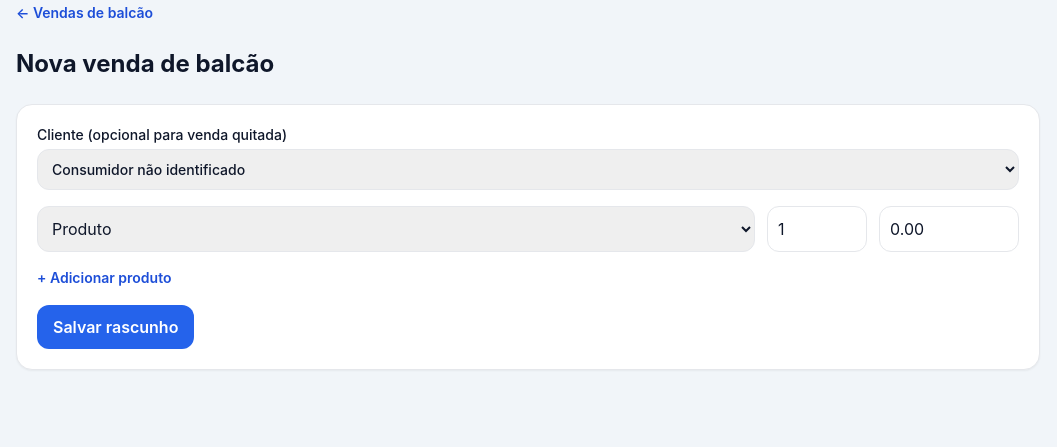
Test: DirectSaleDetailPage › shows a safe API message when creating a sale fails
Select "product-1" in the 2nd dropdown. click: (396, 229)
box: 37,206 -> 755,252
Replace the text in the field with "100.00". click: (949, 229)
box: 879,206 -> 1019,252
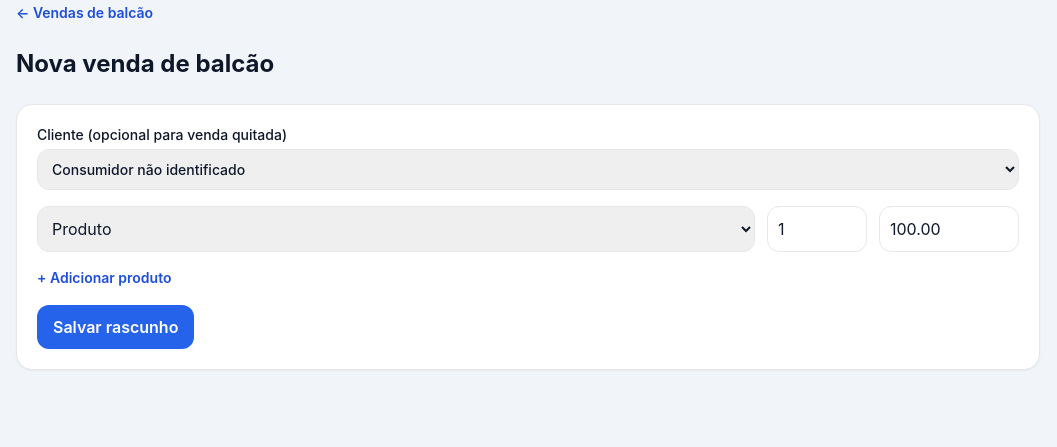
Submit the form, box 16,104 -> 1040,370
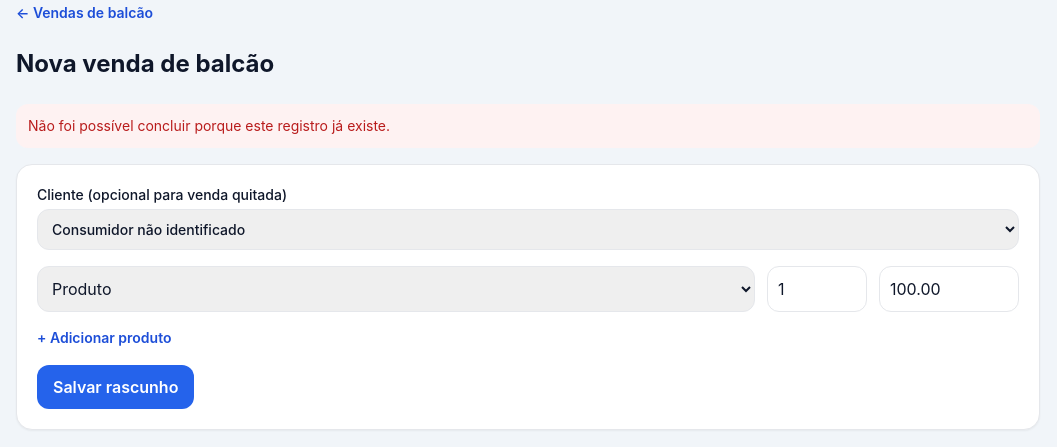
Expected: the message does not show "database secret", 16,104 -> 1040,148
Expected: the message reads "Não foi possível concluir porque este registro já existe.", 28,117 -> 390,134
